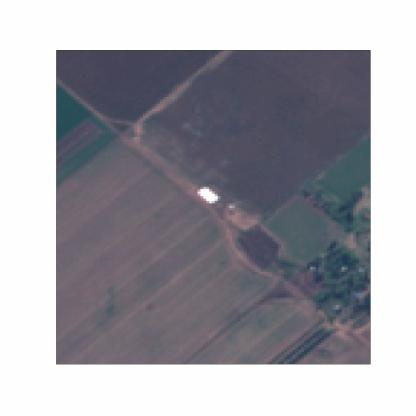silobolsa: (197, 185, 218, 204)
